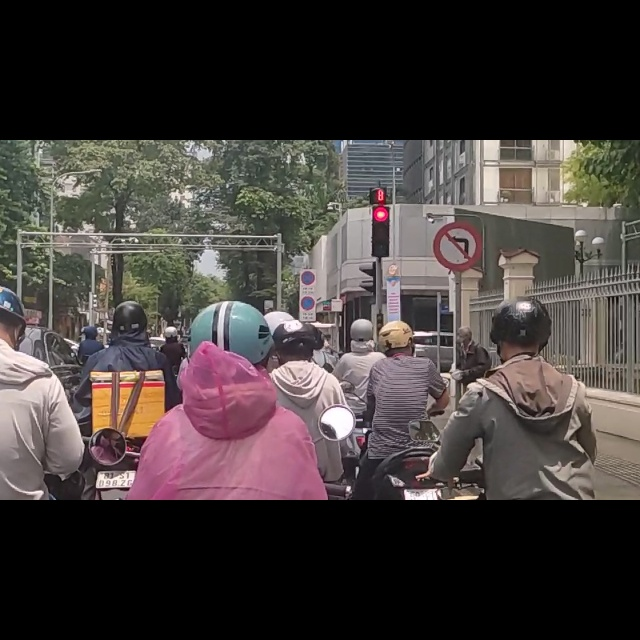bien_cam: (432, 141, 481, 235), (299, 230, 315, 260), (300, 274, 316, 303)
